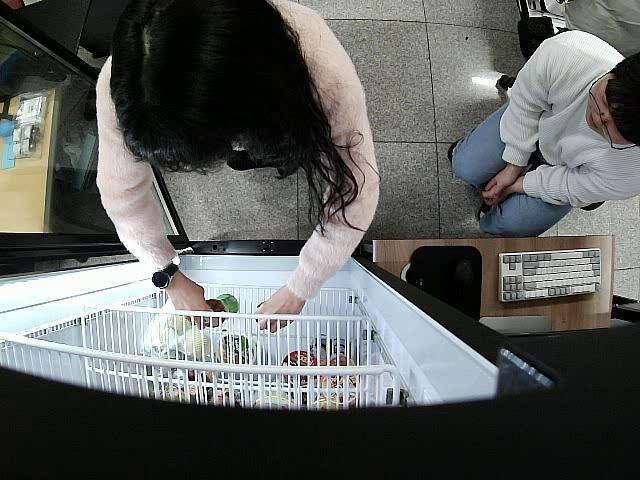19_17cha: (202, 293, 238, 327)
